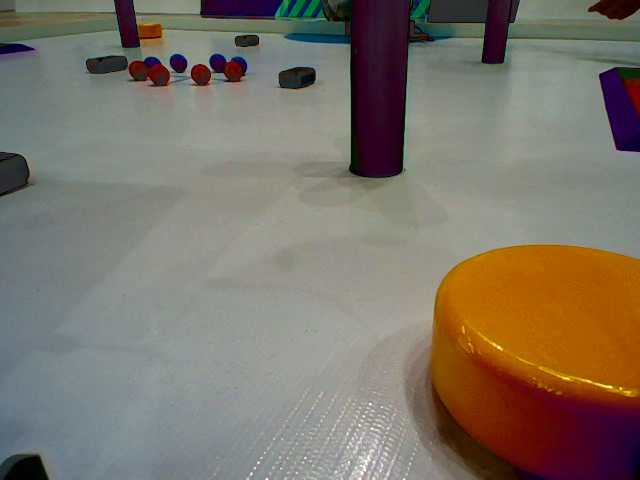black: (1, 149, 30, 199), (275, 66, 316, 90), (85, 55, 129, 74), (232, 31, 265, 49)
blue: (167, 51, 186, 73), (211, 54, 232, 73), (143, 53, 161, 71), (230, 56, 247, 75)
red: (187, 63, 211, 85), (150, 64, 171, 86), (130, 61, 151, 82), (224, 63, 241, 79)
yellow: (429, 238, 640, 471)
zhuzi: (342, 1, 416, 181), (476, 1, 514, 66), (111, 1, 142, 49)
